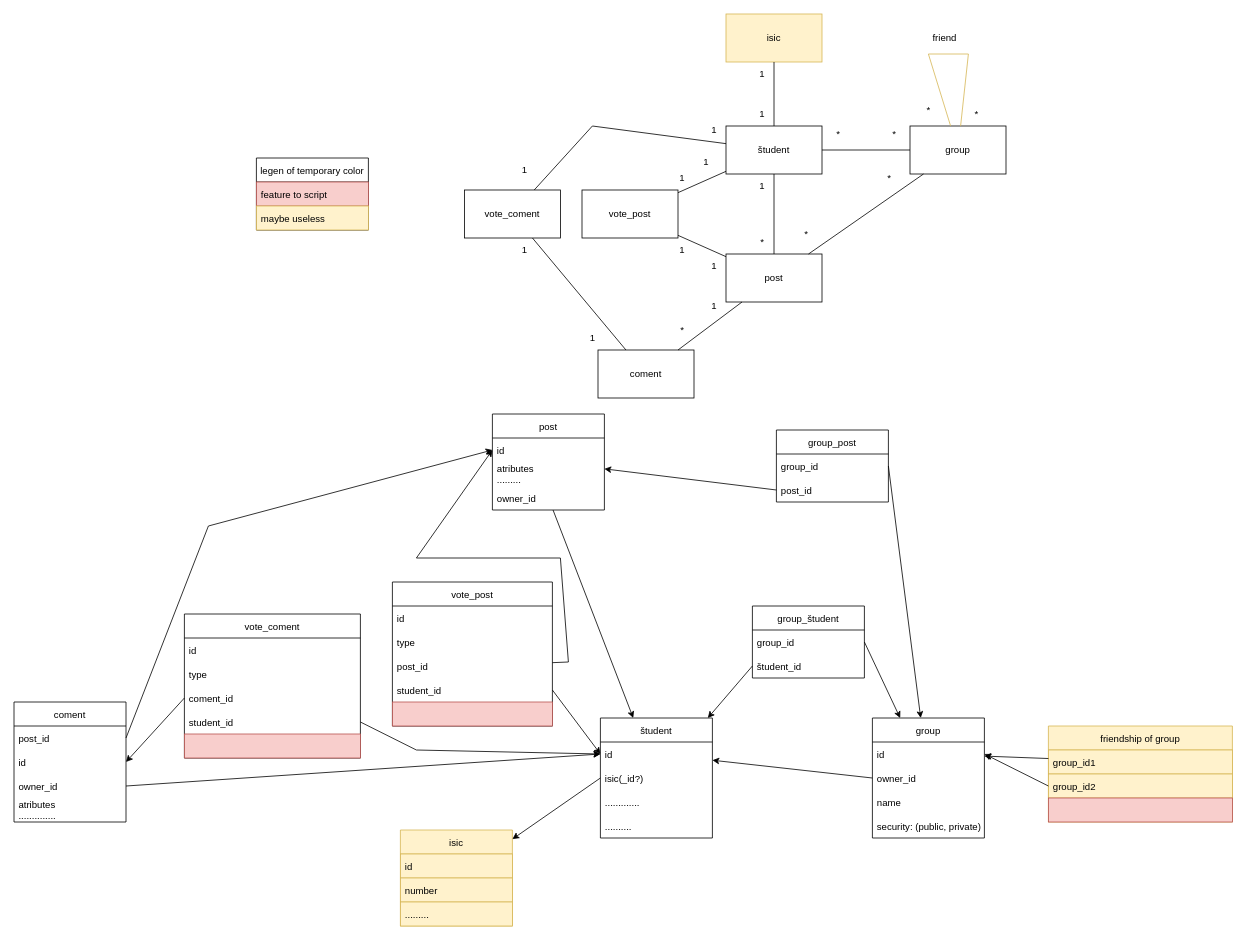
This 1246x940 diagram has some shape labels left out. The centre of each missing label's shape, as x and y in pixels:
UNIQUE(group_id1, group_id2): the point at 1140,809
UNIQUE(student_id, coment_id): the point at 272,745
UNIQUE(student_id, post_id): the point at 472,713
